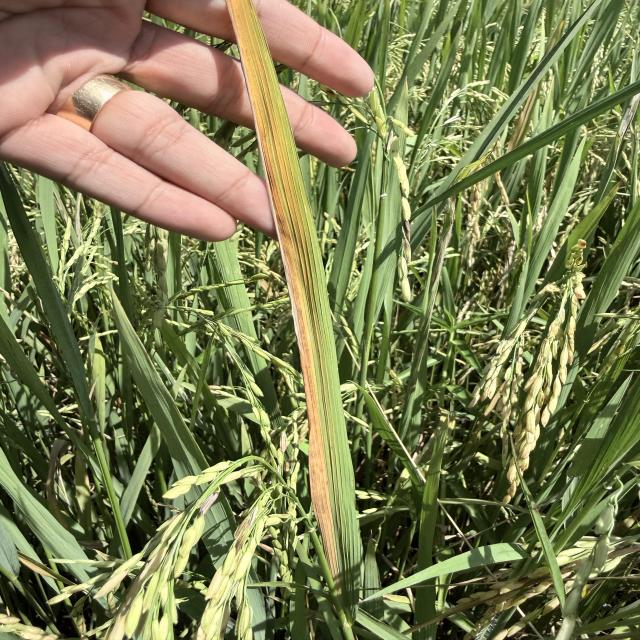Chay bia la: (224, 0, 338, 589)
